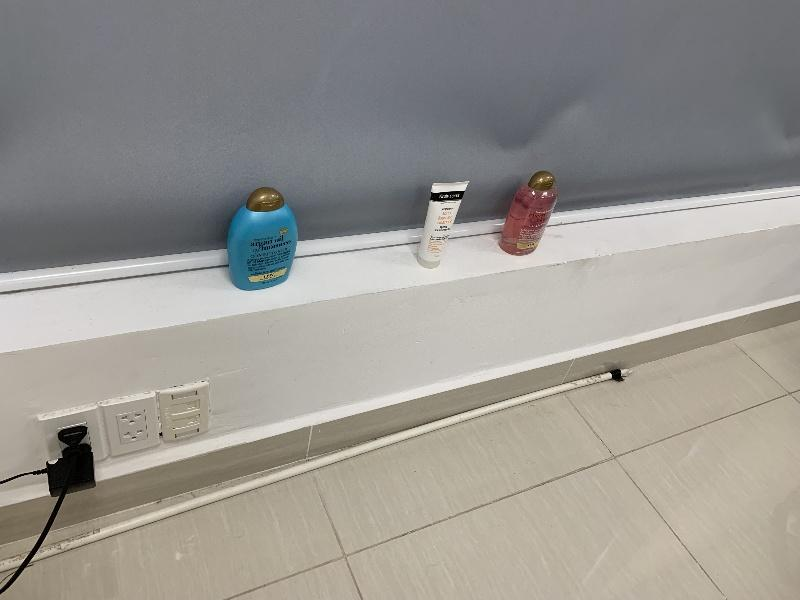AcneFoamingCleanser: (416, 182, 468, 269)
ArganOilOfMorocco_Conditioner: (227, 187, 298, 291)
CherryBlossom_Shampoo: (497, 171, 557, 256)
